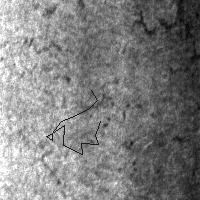crazing: (133, 1, 200, 146), (1, 35, 114, 111), (46, 90, 100, 154)
